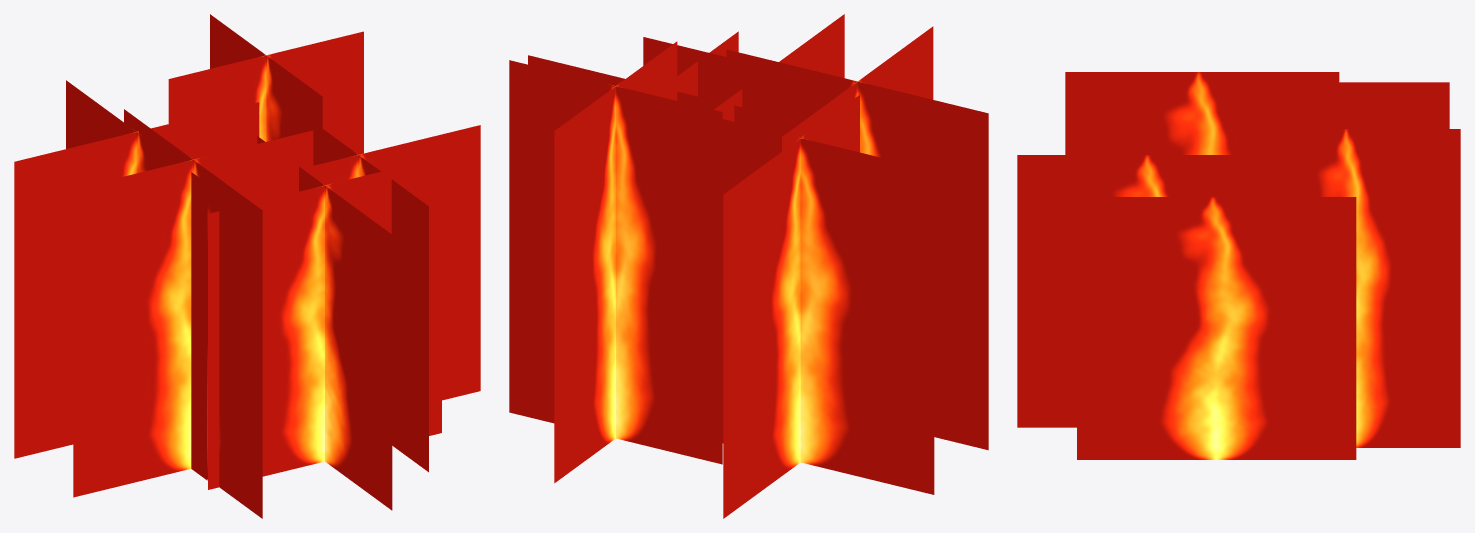
The model's file is kr_fire5_side.glb.
The picture shows the model from 3 angles, left to right: view 1: azimuth 30°, elevation 25°; view 2: azimuth 150°, elevation 25°; view 3: azimuth 270°, elevation 25°; orthographic projection. The views are drawn at different scales.
Visible parts, largest first — view 1: kr_fire5_side_fx_flameB; view 2: kr_fire5_side_fx_flameB; view 3: kr_fire5_side_fx_flameB.
Boxes of the visible parts, left/top/right/bottom form: kr_fire5_side_fx_flameB: left=14, top=14, right=480, bottom=518; kr_fire5_side_fx_flameB: left=509, top=14, right=988, bottom=518; kr_fire5_side_fx_flameB: left=1017, top=72, right=1460, bottom=459.
Size of the model in its own units: 1.02 by 0.7522 by 0.947.
1 material, 1 textured.
